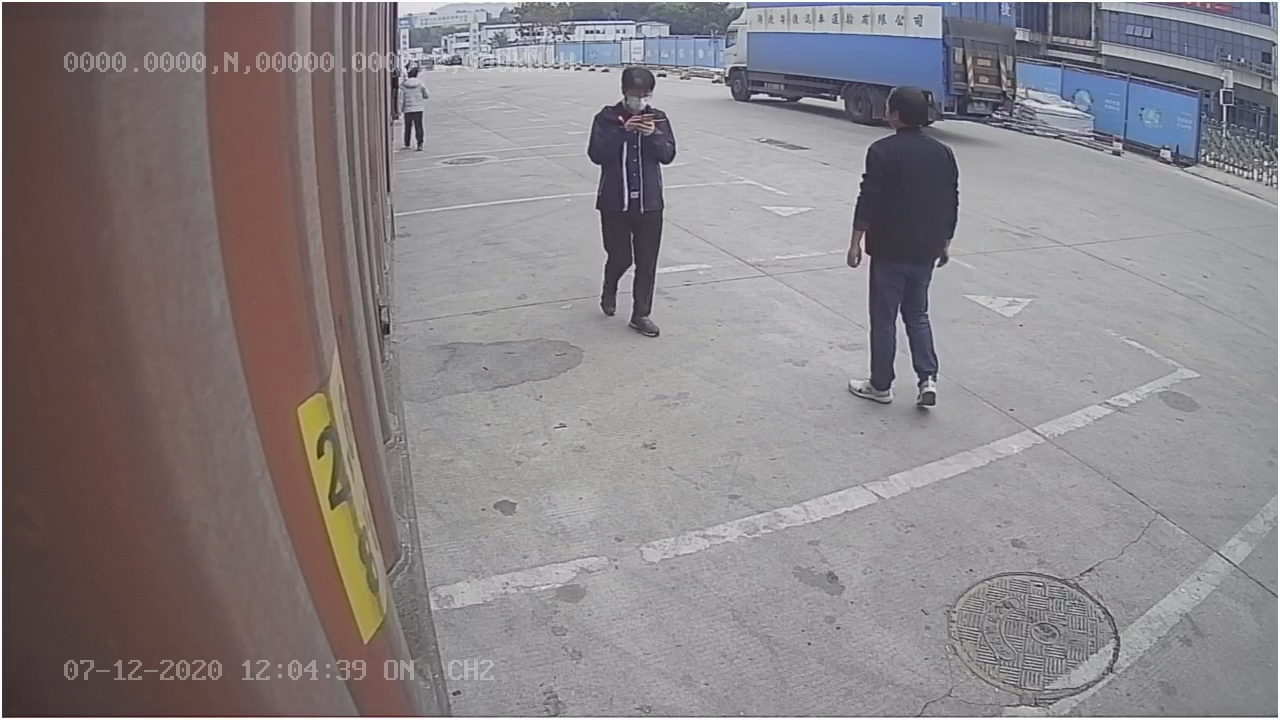person: (579, 66, 675, 337)
